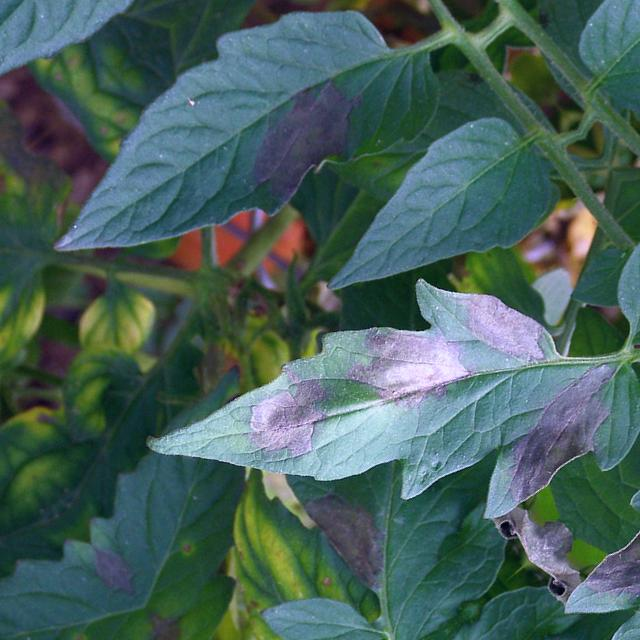Tomato leaf late blight: (160, 171, 640, 640), (8, 0, 463, 355), (71, 399, 372, 640)
